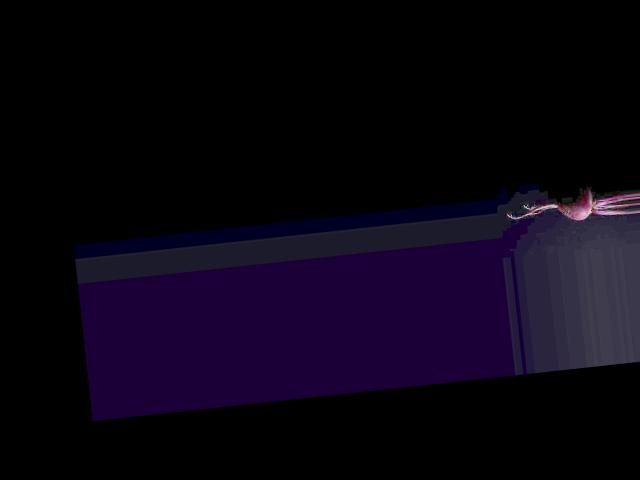beet: (504, 183, 629, 229)
